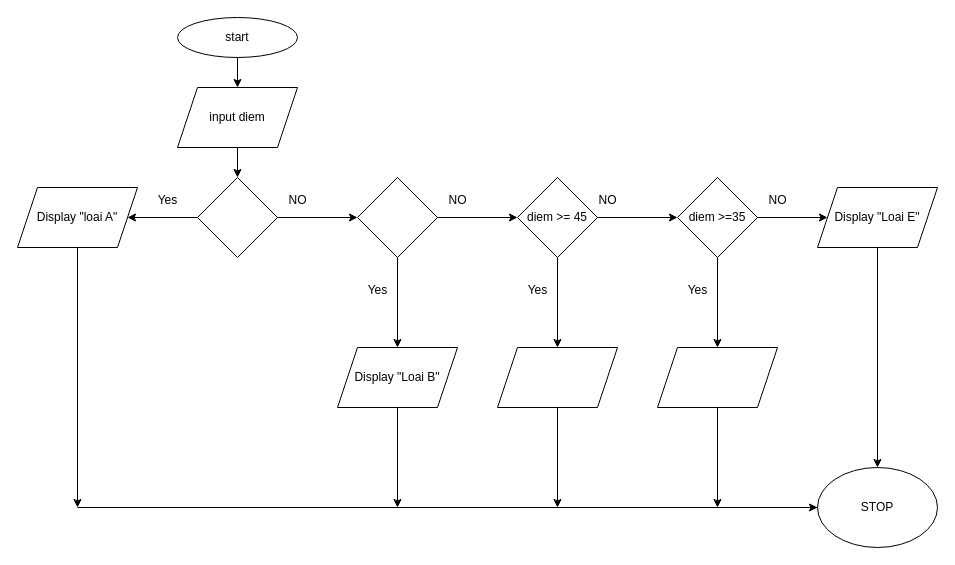
Some shapes in this 955 by 565 pixel diagram are drawn without their labels. Each missing label, with the box of its shape:
diem >= 75: (196, 176, 278, 258)
diem >=60: (356, 176, 438, 258)
Display "Loai C": (496, 346, 618, 408)
Display "Loai D": (656, 346, 778, 408)
